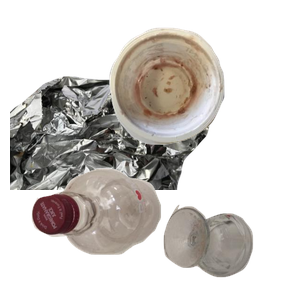glass: (161, 202, 300, 300)
metal: (10, 73, 212, 253)
plastic: (29, 166, 183, 300)
trash: (107, 25, 300, 162)
